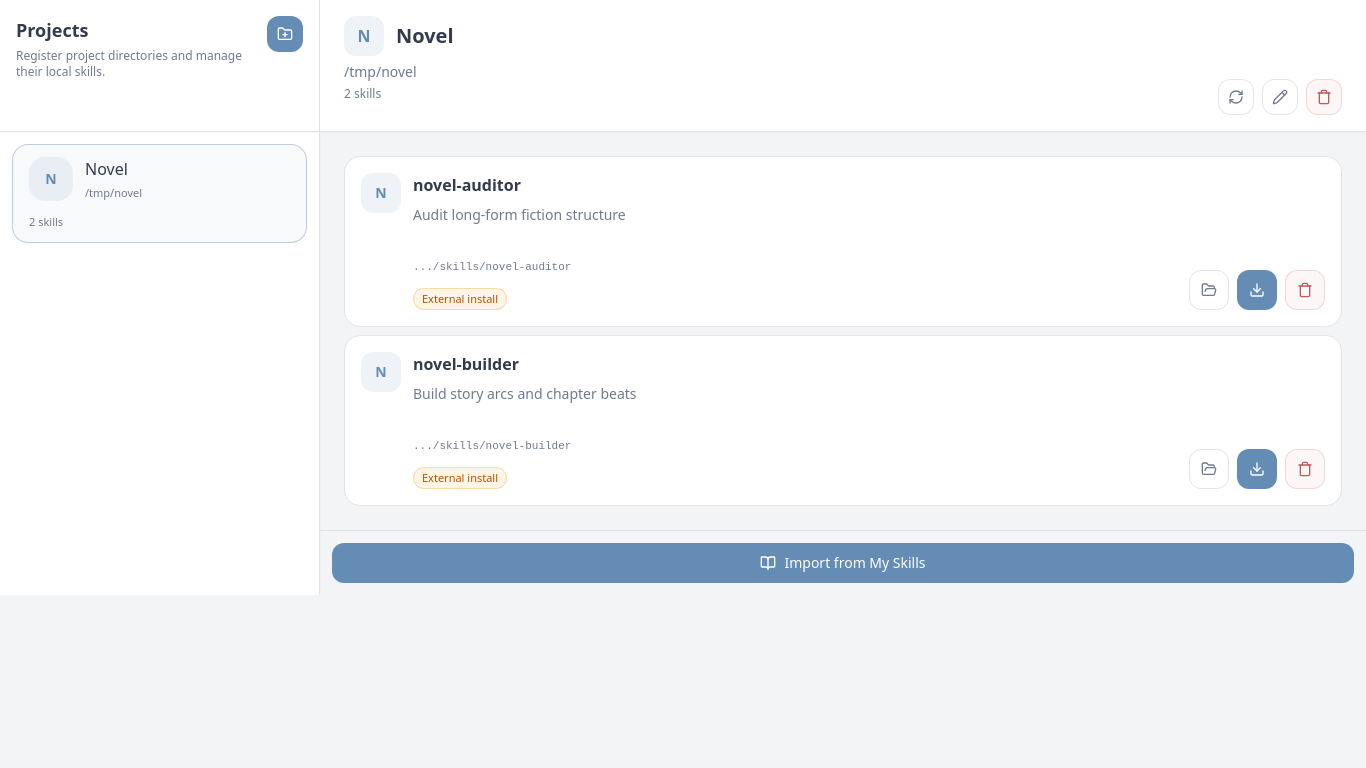
Scenario: SkillProjectsView › does not treat same-name project skills as imported when paths differ
Click the button "novel-auditor" at (381, 193), box 361,173 -> 1117,310
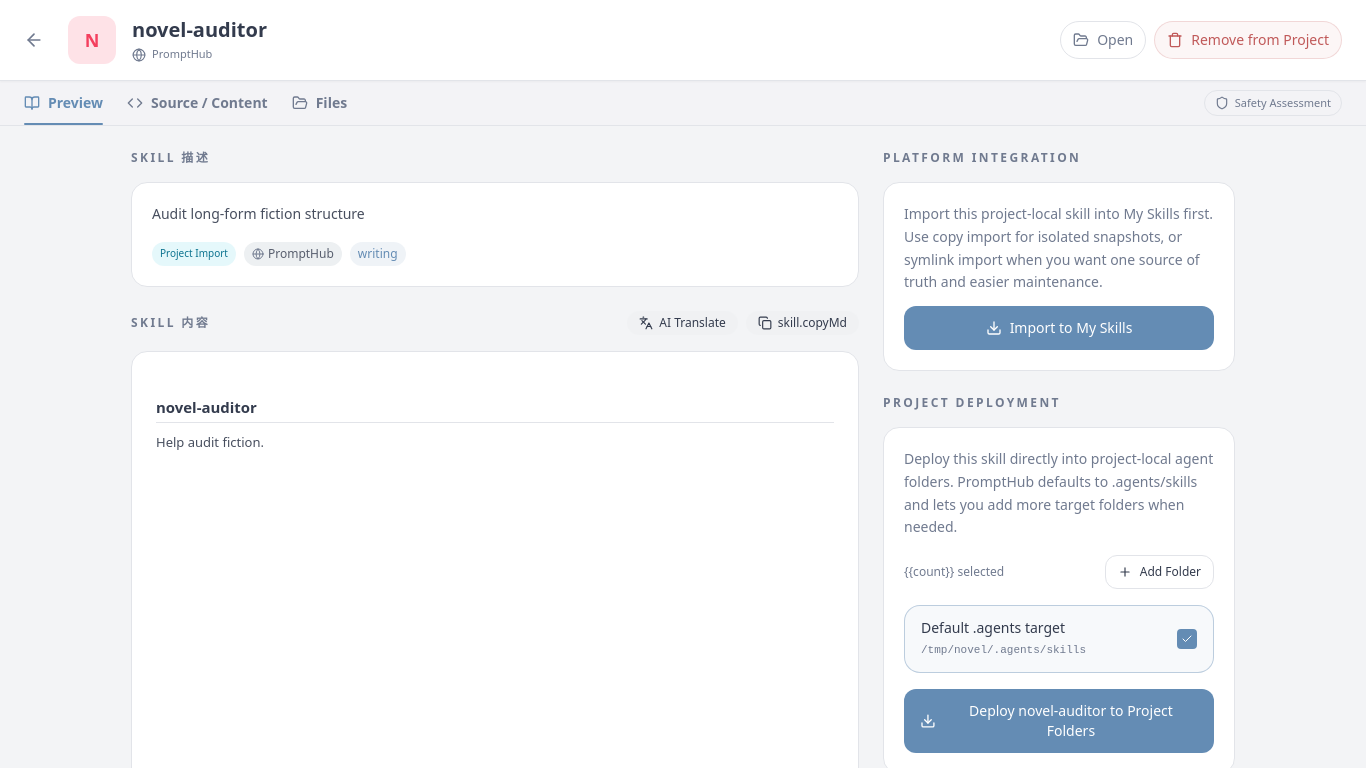
Check: the heading "Platform Integration" is shown, box 883,149 -> 1081,166
Check: the button "Import to My Skills" is shown, box 904,306 -> 1214,350
